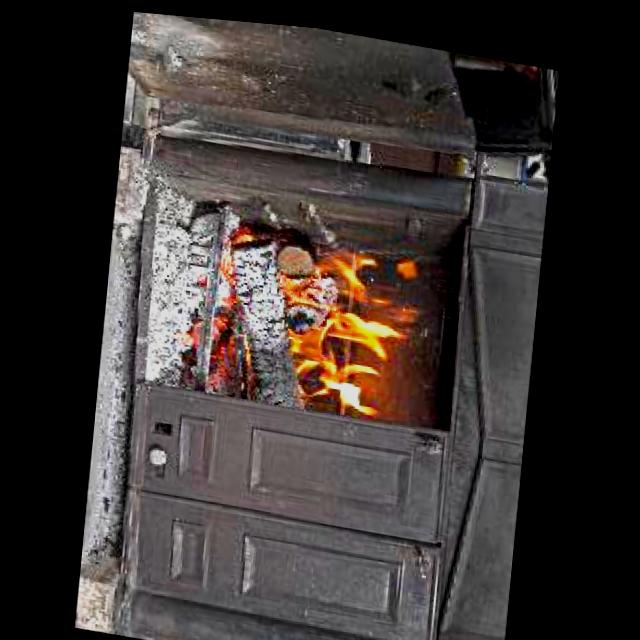Fire: (275, 218, 430, 413)
